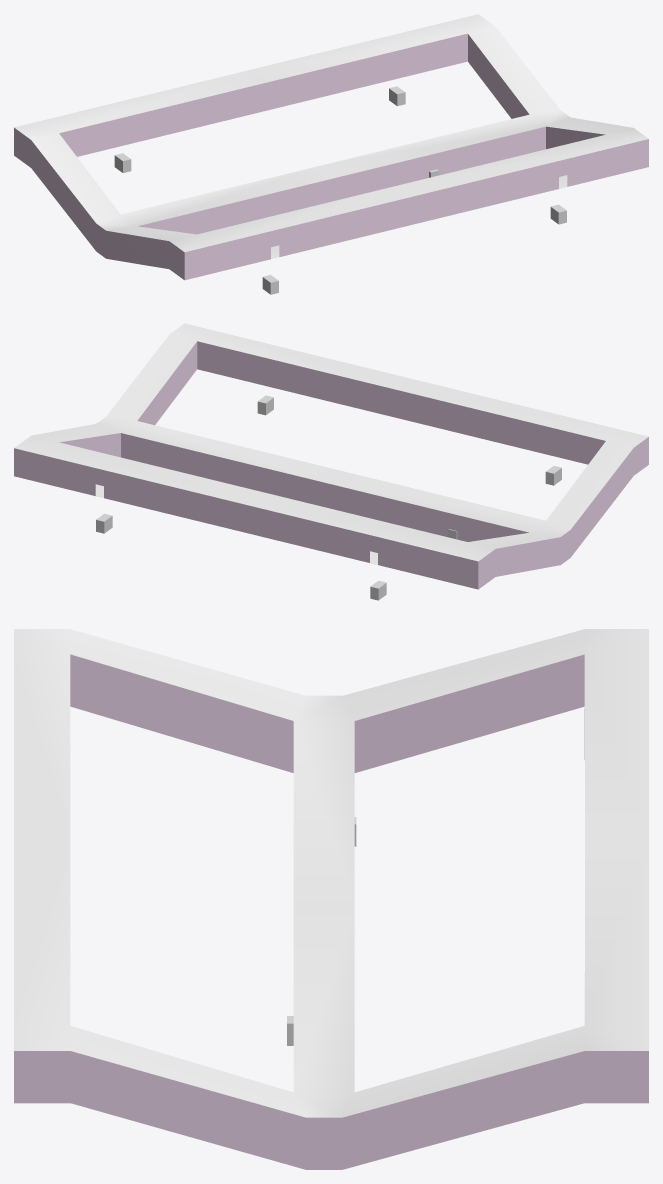
Rendered from School.fbx.
The picture shows the model from 3 angles, top to bottom: view 1: azimuth 30°, elevation 25°; view 2: azimuth 150°, elevation 25°; view 3: azimuth 270°, elevation 25°; orthographic projection. The views are drawn at different scales.
Visible parts, largest first — view 1: Cube.001; view 2: Cube.001; view 3: Cube.001.
Boxes of the visible parts, bbox=[...] form: Cube.001: bbox=[14, 14, 648, 280]; Cube.001: bbox=[14, 323, 648, 589]; Cube.001: bbox=[14, 629, 648, 1169].
Size of the model in its own units: 6481 by 852 by 4123.
